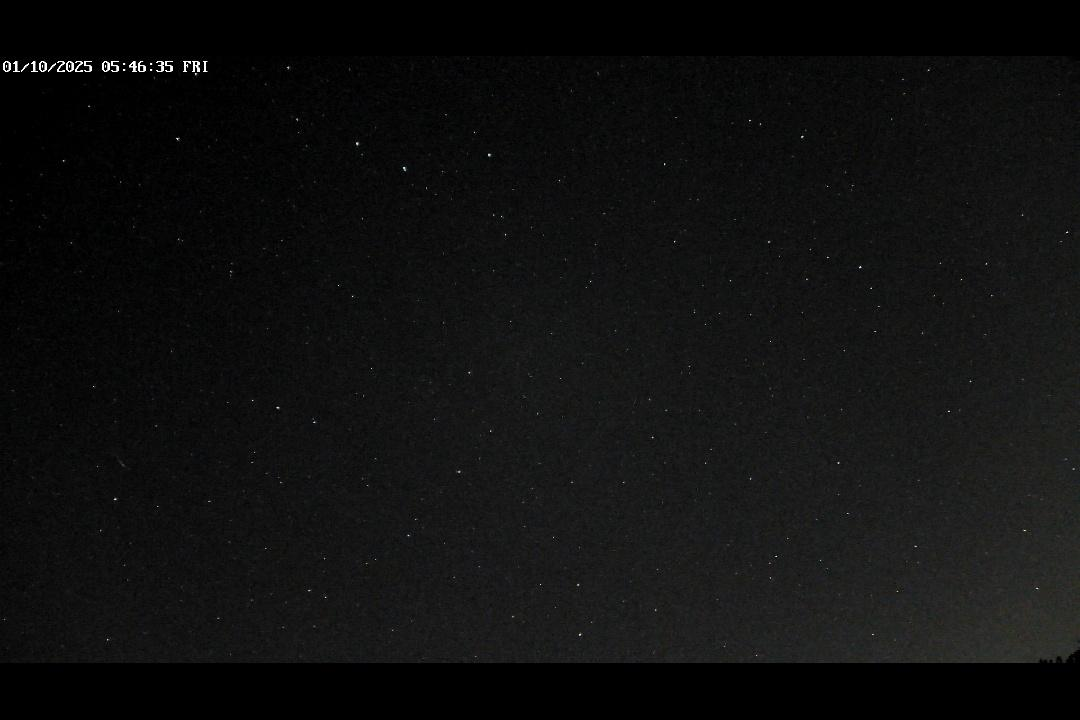Plane: (113, 453, 128, 470)
